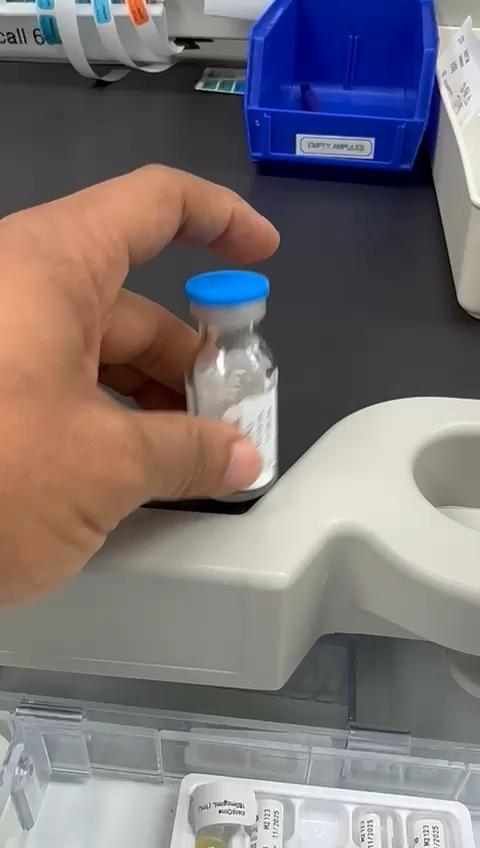cefazolin: (186, 272, 278, 502)
